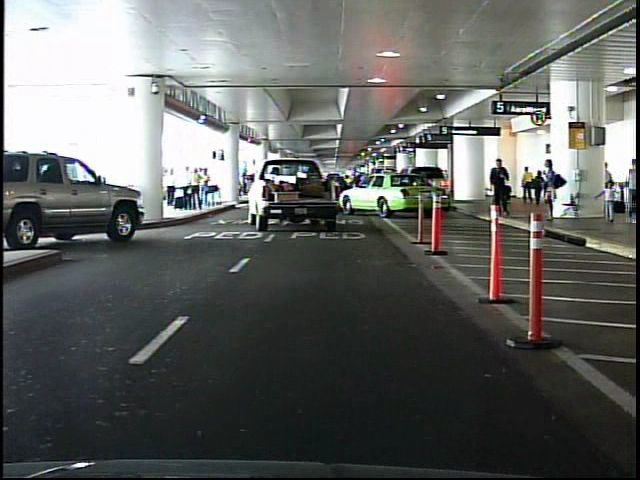person: (538, 155, 565, 225), (489, 156, 510, 219), (594, 176, 619, 226), (532, 170, 544, 207), (522, 166, 532, 204)
